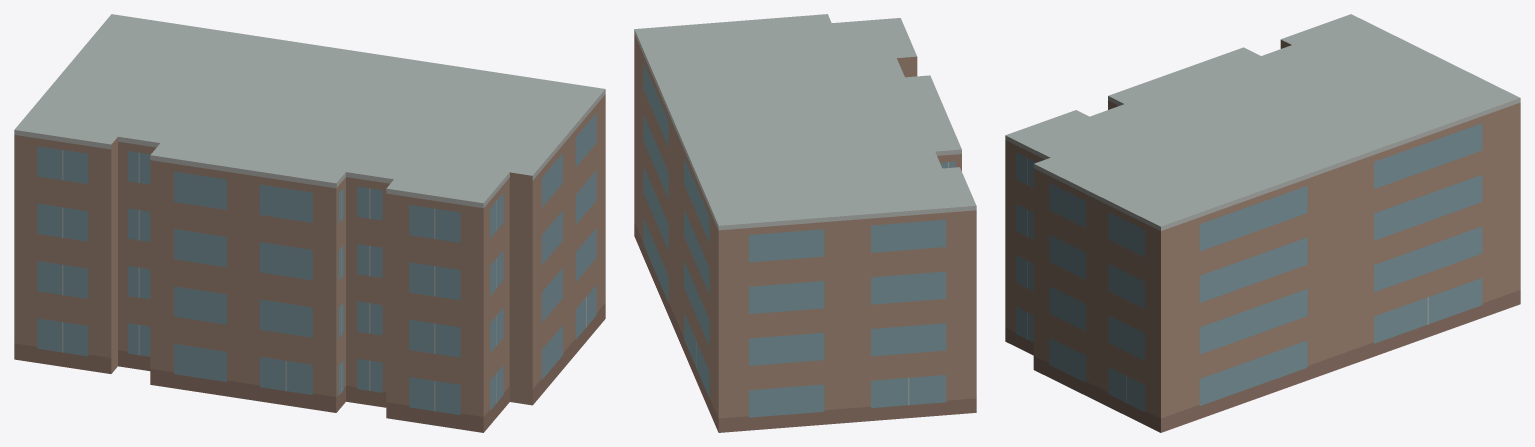
Rendered from survey-upis-32781349.glb.
3 views of the same model, side by side, from view 1: azimuth 30°, elevation 25°; view 2: azimuth 150°, elevation 25°; view 3: azimuth 270°, elevation 25° (orthographic). The views are drawn at different scales.
Visible parts, largest first — view 1: survey-upis-32781349.tmp; view 2: survey-upis-32781349.tmp; view 3: survey-upis-32781349.tmp.
Boxes of the visible parts, bbox=[...] form: survey-upis-32781349.tmp: bbox=[14, 14, 605, 432]; survey-upis-32781349.tmp: bbox=[634, 14, 976, 432]; survey-upis-32781349.tmp: bbox=[1005, 14, 1520, 432].
Size of the model in its own units: 25.01 by 11.3 by 25.61.
